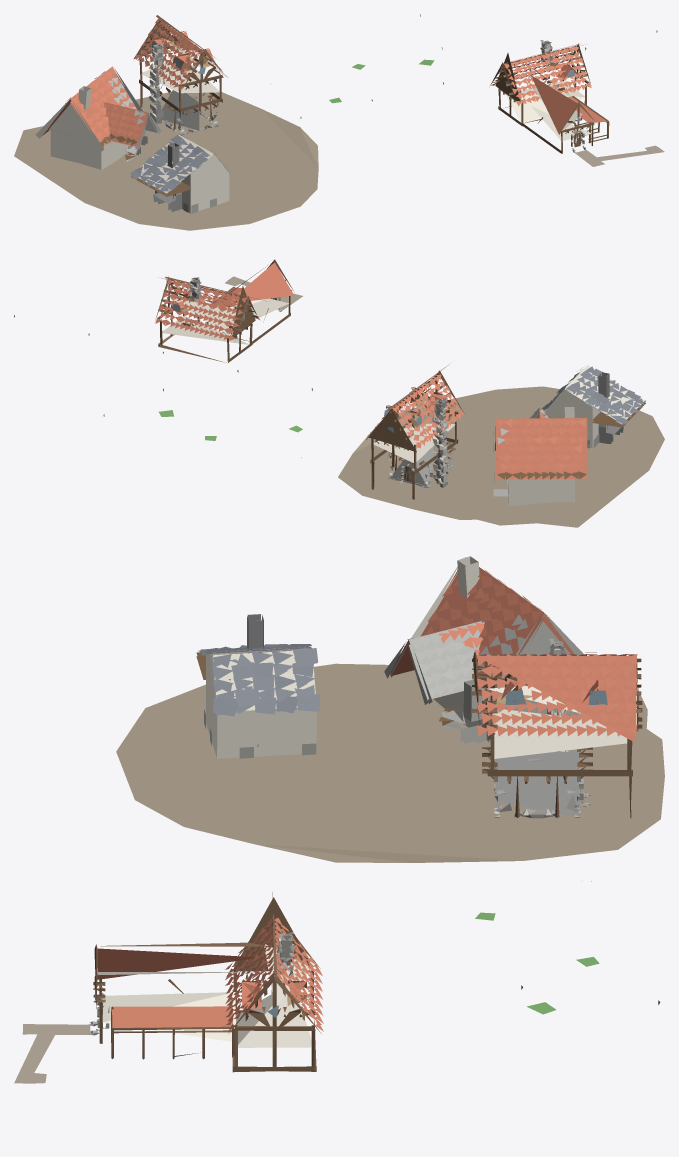
File: chunk_0_1_lod2.glb
3 views of the same model, one above another, from view 1: azimuth 30°, elevation 25°; view 2: azimuth 150°, elevation 25°; view 3: azimuth 270°, elevation 25° (orthographic). The views are drawn at different scales.
Parts seen in each view (by area): view 1: Batched_Chunk_0_1.001; view 2: Batched_Chunk_0_1.001; view 3: Batched_Chunk_0_1.001.
Boxes of the visible parts, x1,y1,x2,y2 form: Batched_Chunk_0_1.001: (14, 14, 664, 230); Batched_Chunk_0_1.001: (14, 259, 664, 527); Batched_Chunk_0_1.001: (14, 556, 664, 1083).
Bounding box in the file's own units: 98.69 × 14.25 × 53.72.
